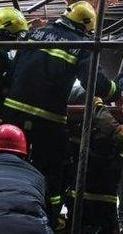gloves: (91, 105, 118, 139), (1, 0, 1, 1)
hard-hat: (0, 123, 28, 155)
ppe-suit: (15, 27, 82, 176)
